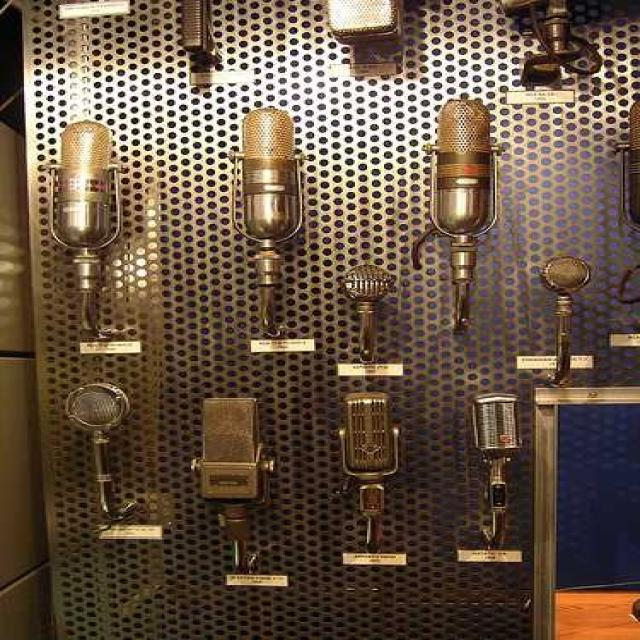microphone: (66, 382, 140, 524), (337, 393, 400, 554), (430, 97, 494, 247), (495, 0, 596, 83), (194, 397, 268, 507), (55, 120, 114, 256), (471, 392, 522, 549), (240, 108, 297, 248), (539, 256, 592, 386), (339, 266, 394, 365), (321, 0, 407, 62), (168, 0, 229, 67), (621, 89, 640, 226), (542, 256, 591, 293)
